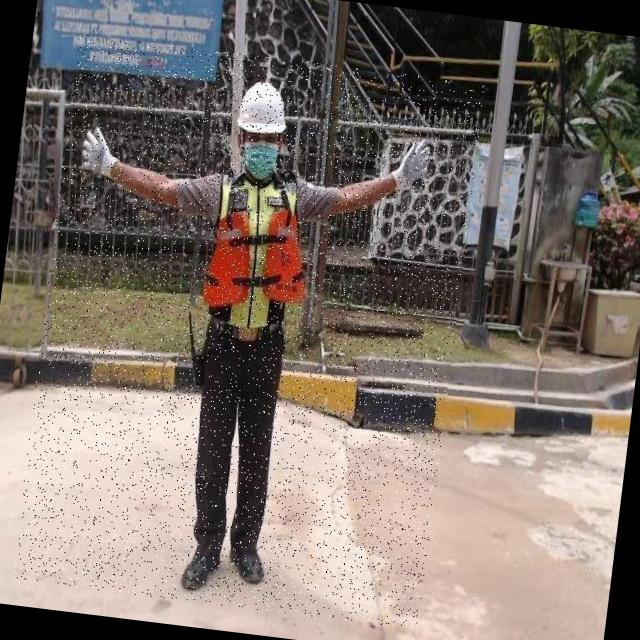hard_hat: (232, 76, 302, 144)
safety_vest: (196, 162, 321, 334)
vehicle: (12, 34, 486, 630)
work_boots: (176, 522, 230, 597), (227, 525, 275, 594)
